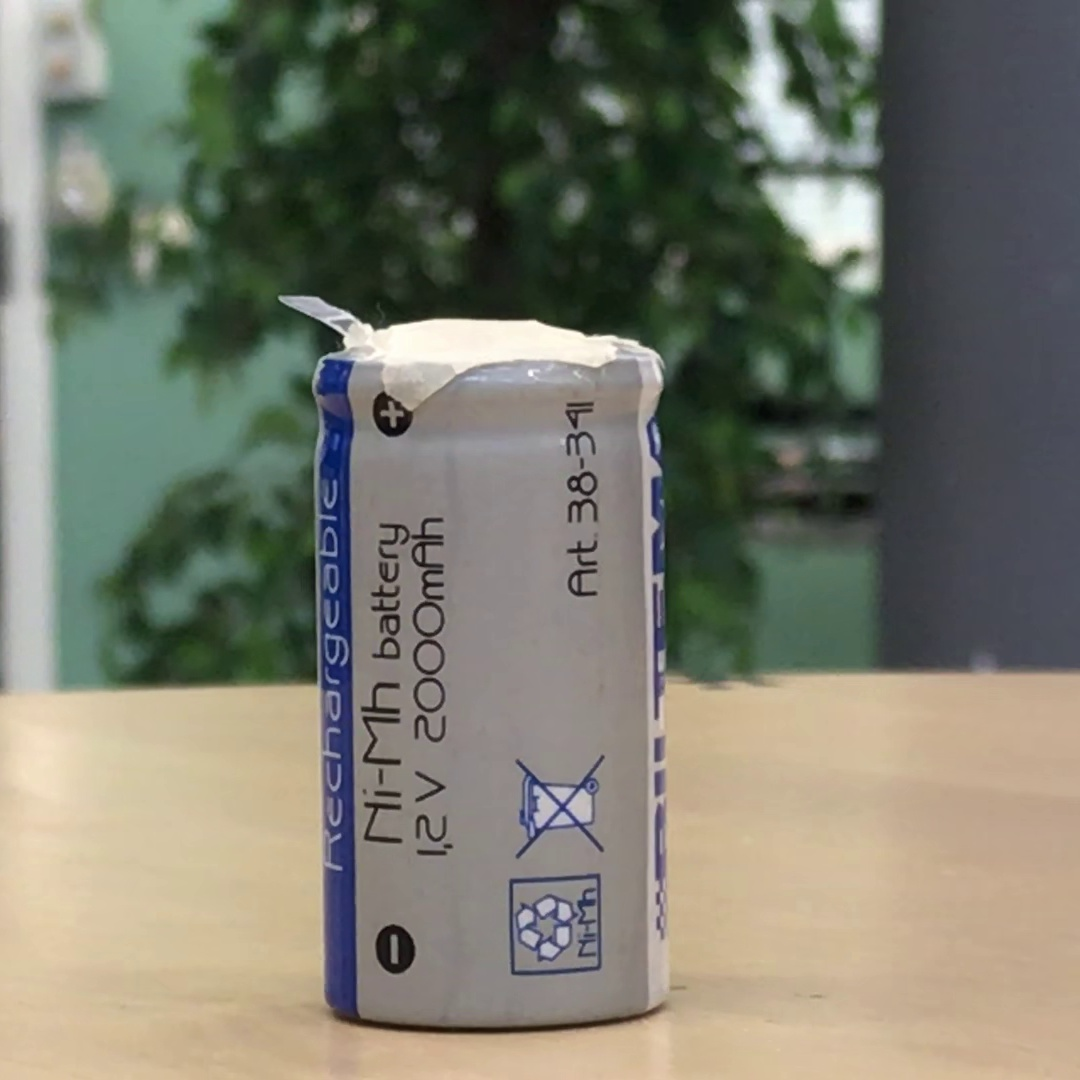keyword: (351, 677, 413, 854)
